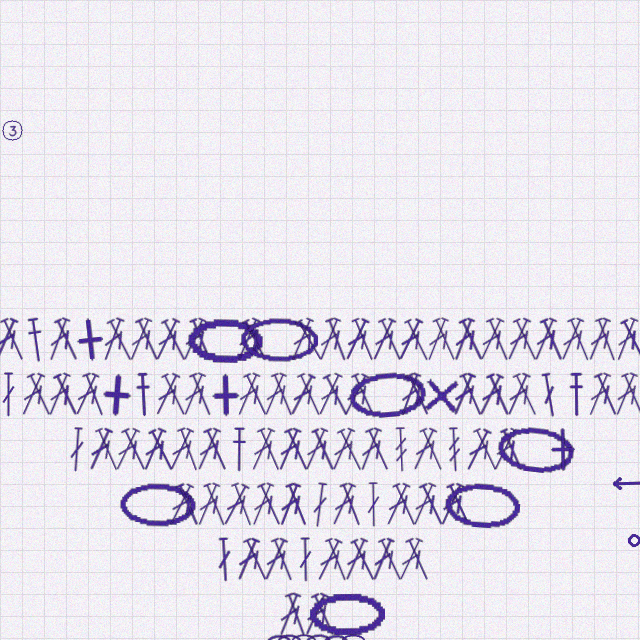chain: (495, 423, 577, 476), (347, 369, 427, 420), (443, 480, 521, 530), (119, 482, 197, 528), (240, 317, 318, 363), (186, 317, 263, 363), (308, 592, 385, 637), (305, 633, 331, 640), (291, 634, 317, 640), (266, 634, 291, 640), (277, 634, 302, 640), (323, 634, 348, 640), (341, 634, 366, 640)
double: (292, 317, 327, 363), (218, 482, 252, 528), (285, 372, 319, 418), (110, 426, 143, 473), (118, 426, 151, 473), (164, 426, 197, 473), (488, 426, 521, 473), (50, 371, 83, 418), (150, 371, 183, 418), (158, 371, 191, 418), (150, 316, 183, 363), (393, 316, 426, 363), (312, 537, 345, 583), (347, 537, 380, 583), (164, 482, 197, 528), (145, 427, 178, 473), (334, 427, 367, 473), (461, 427, 494, 473), (320, 372, 353, 418), (339, 372, 372, 418), (474, 372, 507, 418), (104, 317, 137, 363), (158, 317, 191, 363), (239, 317, 272, 363), (401, 317, 434, 363), (308, 591, 340, 638), (240, 536, 272, 583), (259, 536, 291, 583), (375, 536, 407, 583), (394, 536, 426, 583), (402, 536, 434, 583), (254, 481, 286, 528), (327, 481, 359, 528), (381, 481, 413, 528), (389, 481, 421, 528), (416, 481, 448, 528), (435, 481, 467, 528), (443, 481, 475, 528), (84, 426, 116, 473), (192, 426, 224, 473), (200, 426, 232, 473), (246, 426, 278, 473), (281, 426, 313, 473), (308, 426, 340, 473), (362, 426, 394, 473), (408, 426, 440, 473), (416, 426, 448, 473), (470, 426, 502, 473), (16, 371, 48, 418), (24, 371, 56, 418), (70, 371, 102, 418), (240, 371, 272, 418), (294, 371, 326, 418), (313, 371, 345, 418), (348, 371, 380, 418), (402, 371, 434, 418), (483, 371, 515, 418), (510, 371, 542, 418), (51, 316, 83, 363), (132, 316, 164, 363), (340, 316, 372, 363), (367, 316, 399, 363), (375, 316, 407, 363), (429, 316, 461, 363), (456, 316, 488, 363), (475, 316, 507, 363), (502, 316, 534, 363), (510, 316, 542, 363), (300, 591, 331, 638), (232, 536, 263, 583), (340, 536, 371, 583), (367, 536, 398, 583), (173, 481, 204, 528), (192, 481, 223, 528), (200, 481, 231, 528), (408, 481, 439, 528), (92, 426, 123, 473), (138, 426, 169, 473), (254, 426, 285, 473), (273, 426, 304, 473), (300, 426, 331, 473), (327, 426, 358, 473), (497, 426, 528, 473), (43, 371, 74, 418), (178, 371, 209, 418), (186, 371, 217, 418), (232, 371, 263, 418), (259, 371, 290, 418), (448, 371, 479, 418), (456, 371, 487, 418), (502, 371, 533, 418), (583, 371, 614, 418), (591, 371, 622, 418), (124, 316, 155, 363), (178, 316, 209, 363), (186, 316, 217, 363), (232, 316, 263, 363), (286, 316, 317, 363), (348, 316, 379, 363), (483, 316, 514, 363), (529, 316, 560, 363), (537, 316, 568, 363), (556, 316, 587, 363), (564, 316, 595, 363), (583, 316, 614, 363), (274, 591, 304, 638), (268, 536, 298, 583), (322, 536, 352, 583), (247, 481, 277, 528), (274, 481, 304, 528), (282, 481, 312, 528), (336, 481, 366, 528), (355, 426, 385, 473), (79, 371, 109, 418), (268, 371, 298, 418), (610, 371, 640, 418), (314, 316, 344, 363), (322, 316, 352, 363), (422, 316, 452, 363), (282, 591, 311, 638), (228, 481, 257, 528), (174, 426, 203, 473), (395, 371, 424, 418), (0, 316, 29, 363), (44, 316, 73, 363), (98, 316, 127, 363), (449, 316, 478, 363), (592, 316, 621, 363), (611, 316, 640, 363), (617, 317, 640, 363), (618, 371, 640, 418), (538, 372, 560, 418), (0, 316, 21, 363), (310, 482, 330, 528), (68, 427, 86, 472), (216, 537, 233, 582), (298, 537, 313, 582), (366, 482, 381, 527), (1, 372, 16, 417), (0, 317, 4, 363), (637, 316, 640, 363)
half_double: (24, 317, 47, 363), (134, 372, 153, 417), (230, 427, 248, 472), (567, 372, 585, 417)
noise: (0, 118, 25, 143), (610, 477, 640, 490), (626, 532, 640, 549)
single: (65, 315, 114, 364), (93, 371, 141, 419), (417, 371, 465, 419), (202, 372, 248, 418), (541, 427, 585, 472)
treble: (446, 427, 463, 472), (393, 427, 409, 472)
